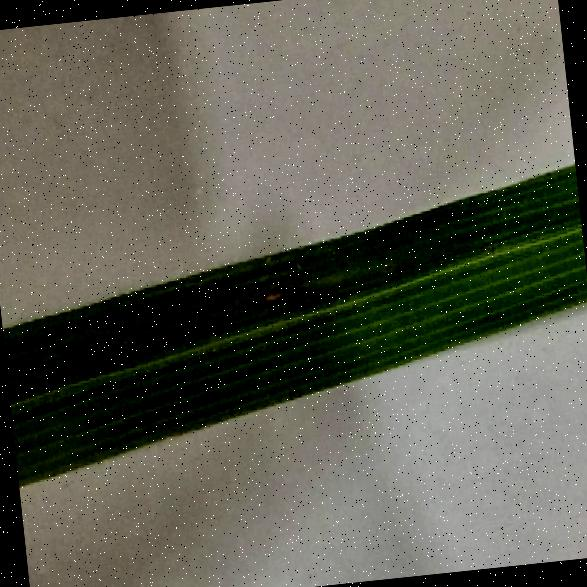Leaf_smut: (235, 272, 312, 322)
